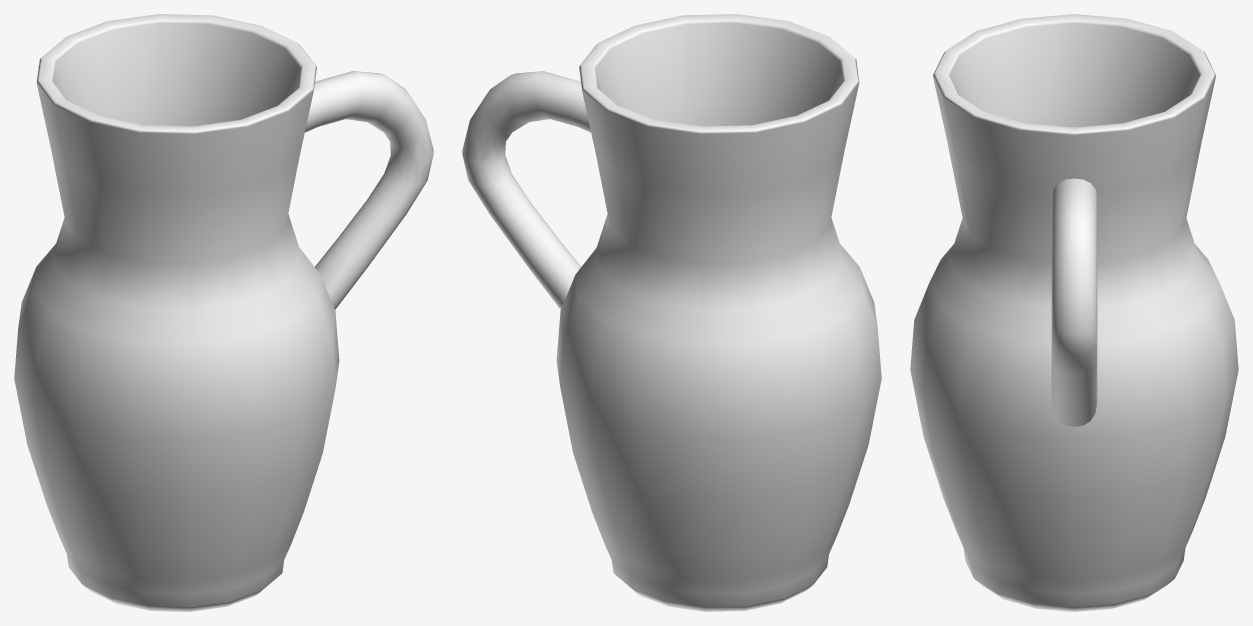
Rendered from Vase_with_water_1.glb.
3 renders of one model, left to right at view 1: azimuth 30°, elevation 25°; view 2: azimuth 150°, elevation 25°; view 3: azimuth 270°, elevation 25°, orthographic.
Parts seen in each view (by area): view 1: Vase_with_water_1; view 2: Vase_with_water_1; view 3: Vase_with_water_1.
Boxes of the visible parts, <box> form: Vase_with_water_1: <box>14,14,433,611</box>; Vase_with_water_1: <box>462,14,881,611</box>; Vase_with_water_1: <box>910,14,1238,611</box>.
Bounding box in the file's own units: 0.2169 × 0.2603 × 0.1559.
2 materials, 2 textured.
